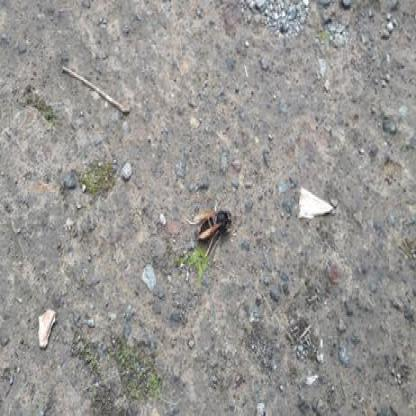Asian Hornet: (193, 201, 238, 255)
